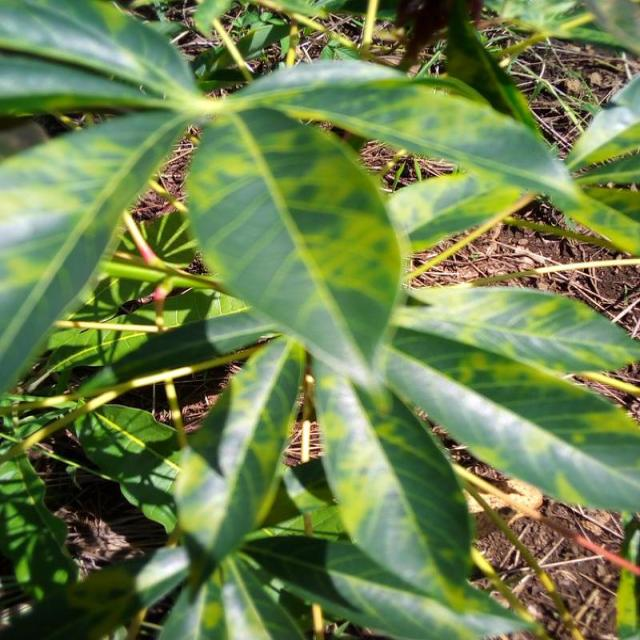cassava leaf: (0, 2, 638, 637), (184, 102, 405, 388)
